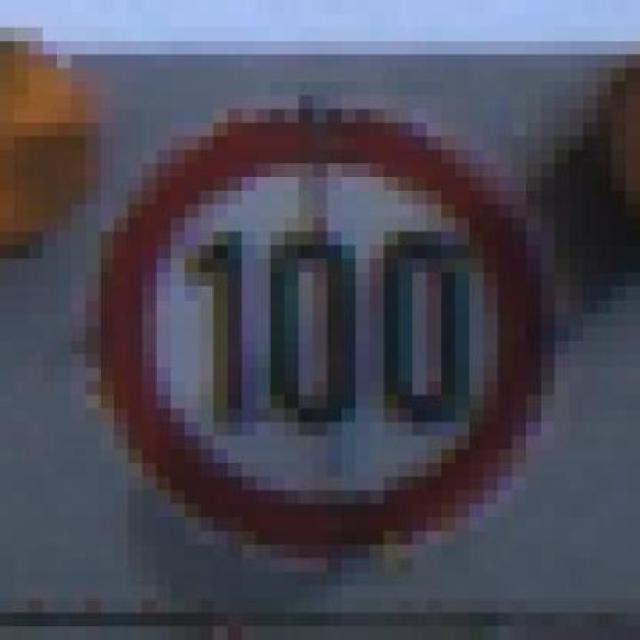forb_speed_over_100: (114, 119, 548, 550)
